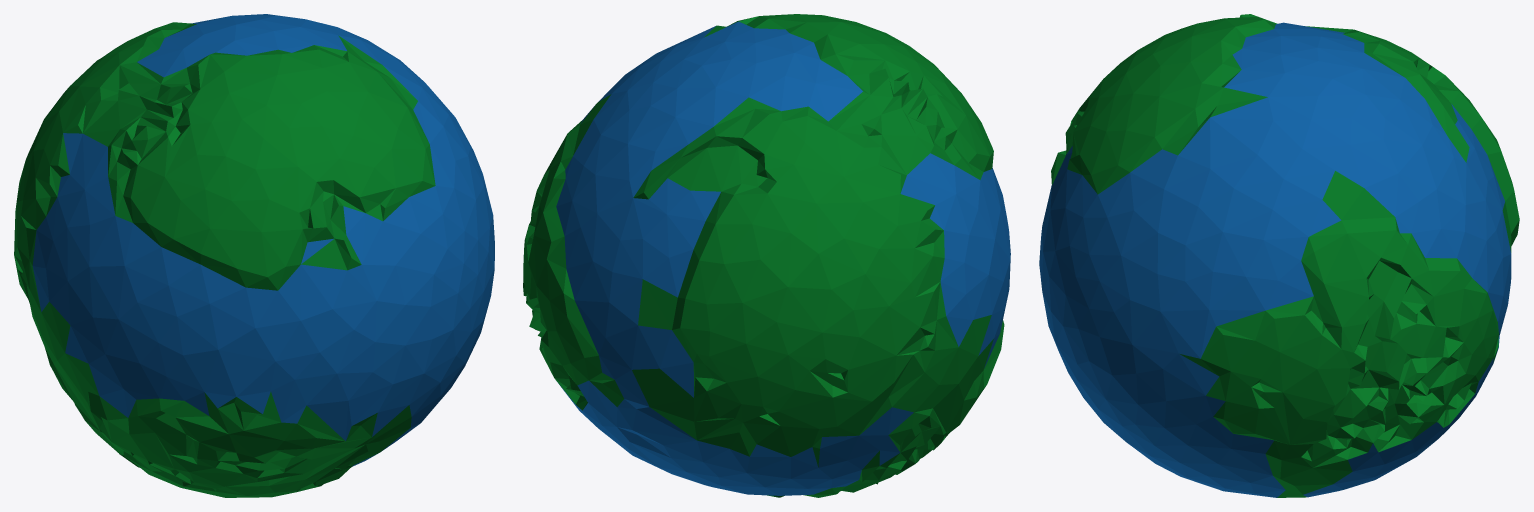
File: Planet 11.FBX
3 renders of one model, left to right at view 1: azimuth 30°, elevation 25°; view 2: azimuth 150°, elevation 25°; view 3: azimuth 270°, elevation 25°, orthographic.
Parts seen in each view (by area): view 1: Planet 11; view 2: Planet 11; view 3: Planet 11.
Part boxes in pixels (bbox=[...]): Planet 11: bbox=[14, 14, 494, 497]; Planet 11: bbox=[523, 14, 1010, 497]; Planet 11: bbox=[1039, 14, 1519, 497].
Size of the model in its own units: 223 by 224 by 223.
